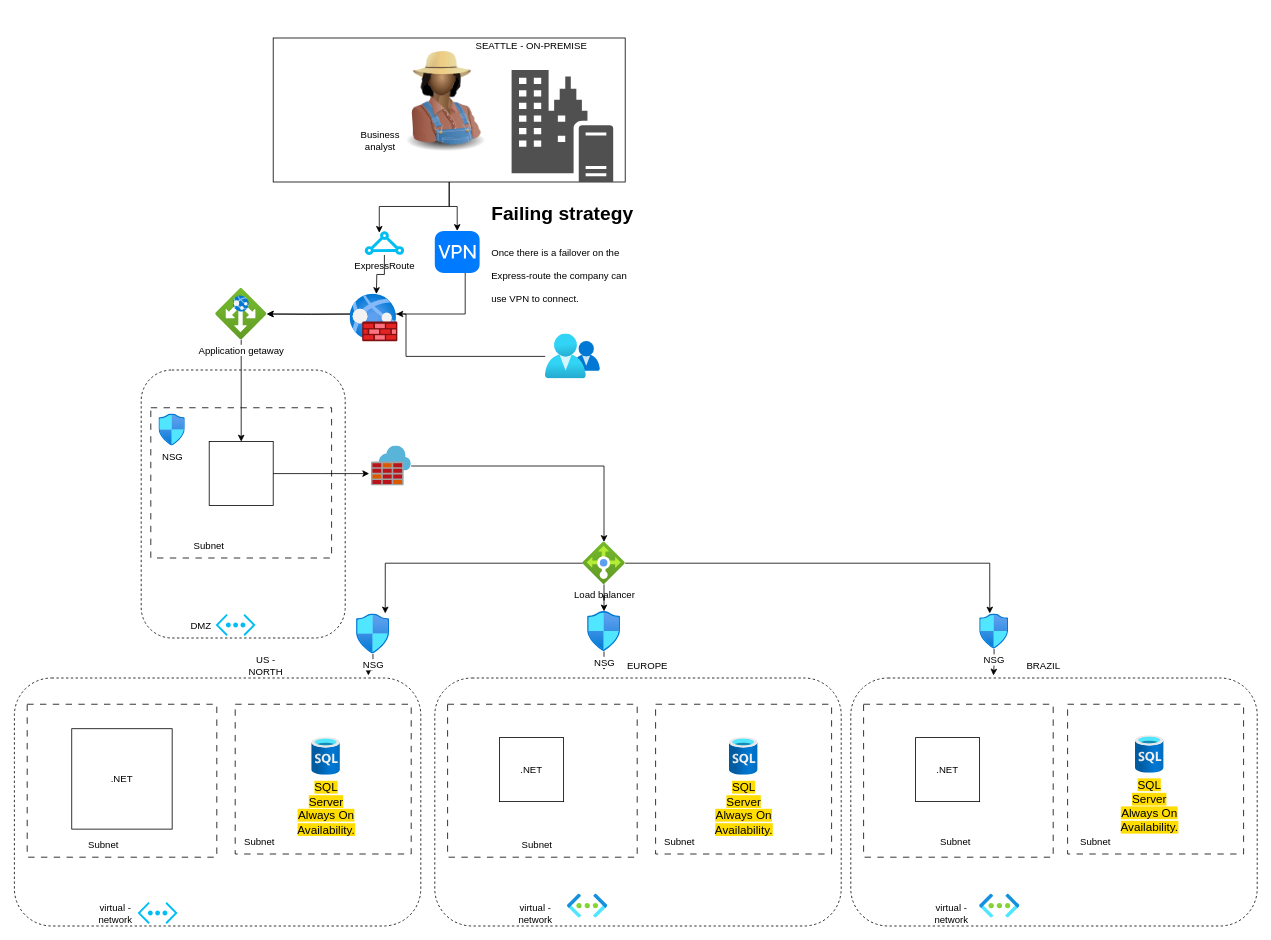
This 1271x940 diagram has some shape labels left out. Each missing label, with the centre of its shape:
Firewall: point 391,466
IIS - WEB: point 240,473
My customers: point 572,356
WAF: point 374,318
